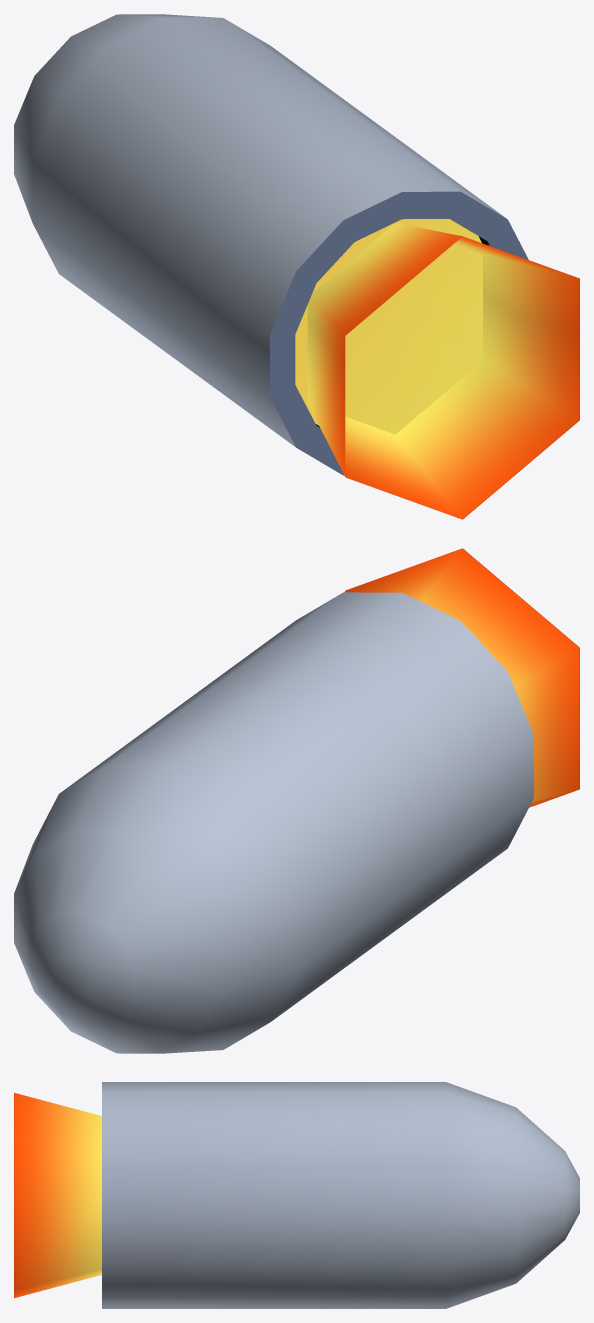
The model's file is Rocketwip.gltf.
3 renders of one model, top to bottom at view 1: azimuth 30°, elevation 25°; view 2: azimuth 150°, elevation 25°; view 3: azimuth 270°, elevation 25°, orthographic. The views are drawn at different scales.
Visible parts, largest first — view 1: Proj.Rocket, Proj.Rocket.001; view 2: Proj.Rocket, Proj.Rocket.001; view 3: Proj.Rocket, Proj.Rocket.001.
Boxes of the visible parts, box(x1,y1,x2,y2) form: Proj.Rocket: box(14, 14, 528, 475); Proj.Rocket.001: box(307, 223, 579, 519); Proj.Rocket: box(14, 592, 533, 1053); Proj.Rocket.001: box(345, 548, 579, 807); Proj.Rocket: box(102, 1082, 579, 1308); Proj.Rocket.001: box(14, 1092, 101, 1298).
Bounding box in the file's own units: 1.74 × 1.78 × 4.44.
Materials: 2 (2 with a texture image).
